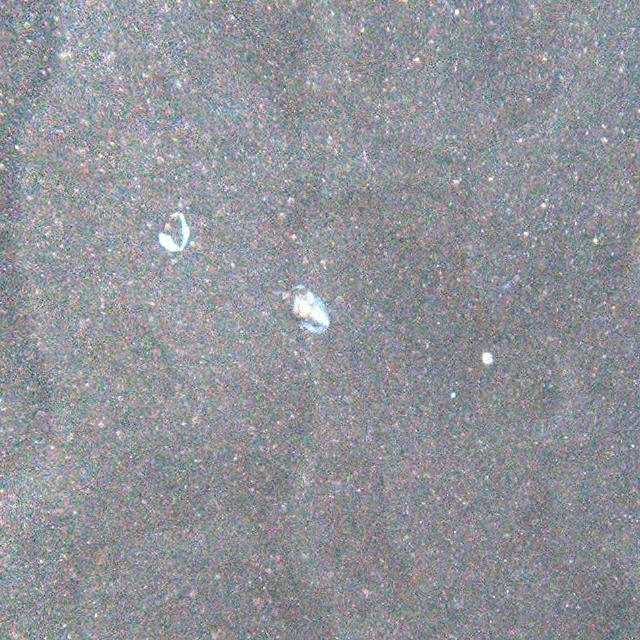whelk: (282, 287, 332, 335)
